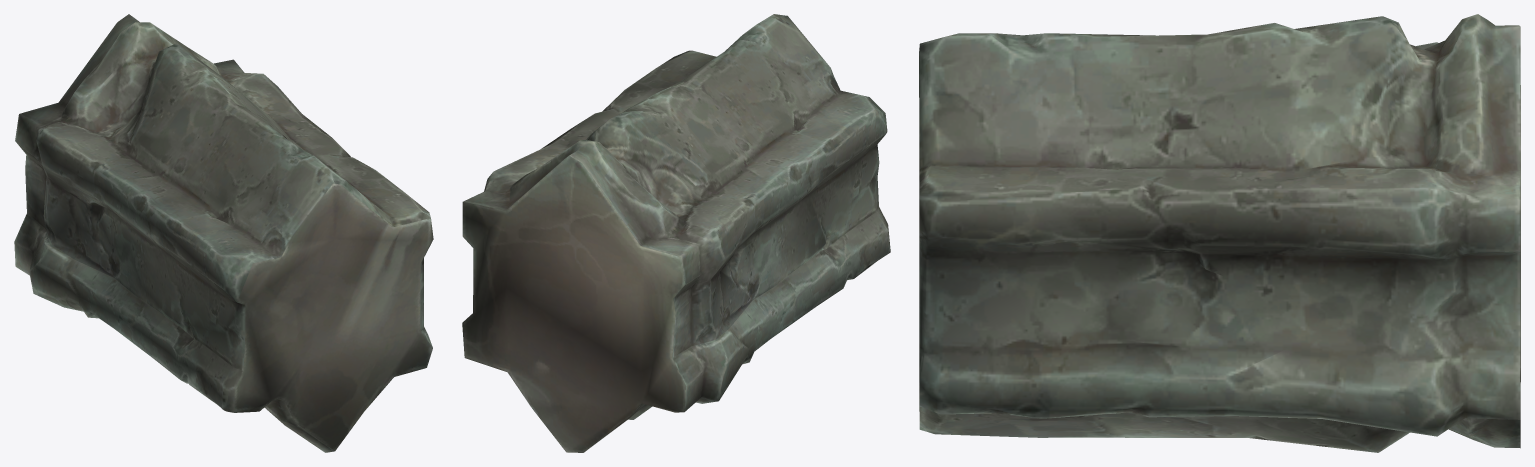
File: Ruins_Pillar_5m_A.fbx
3 renders of one model, left to right at view 1: azimuth 30°, elevation 25°; view 2: azimuth 150°, elevation 25°; view 3: azimuth 270°, elevation 25°, orthographic. The views are drawn at different scales.
Parts seen in each view (by area): view 1: Ruins_Pillar_5m_A; view 2: Ruins_Pillar_5m_A; view 3: Ruins_Pillar_5m_A.
Part boxes in pixels (x1,y1,x2,y2): Ruins_Pillar_5m_A: (14, 14, 433, 452); Ruins_Pillar_5m_A: (462, 14, 890, 452); Ruins_Pillar_5m_A: (919, 14, 1520, 452).
Size of the model in its own units: 343 by 410 by 519.
